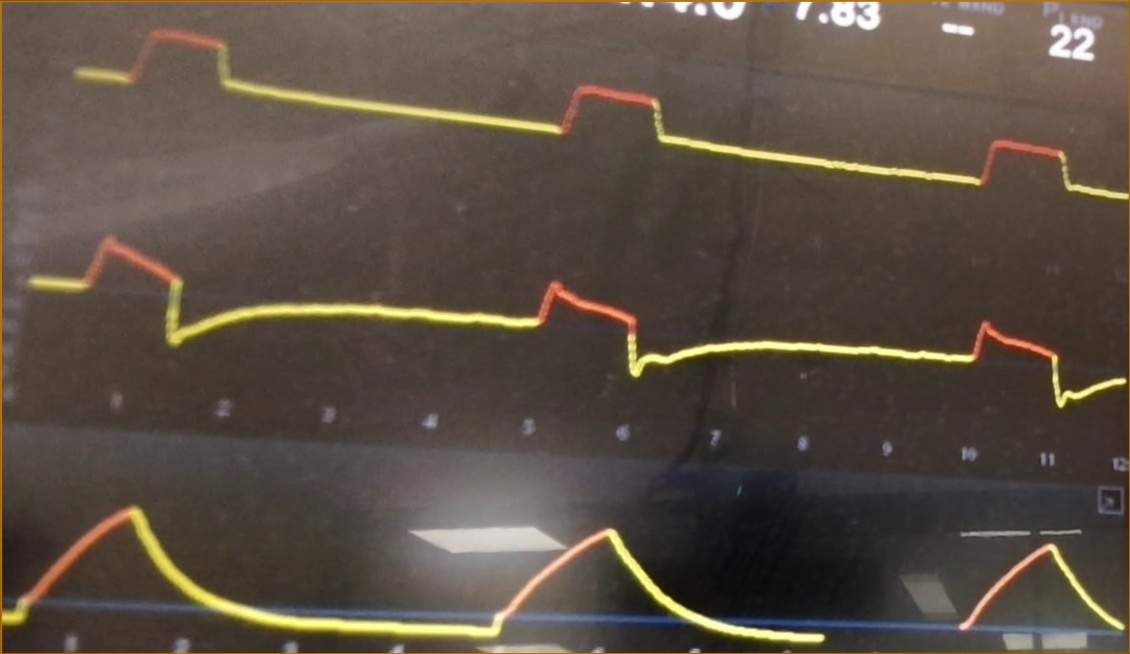Premature_cycling Flow: (30, 213, 1127, 408)
Premature_cycling Volume: (5, 501, 1119, 647)
